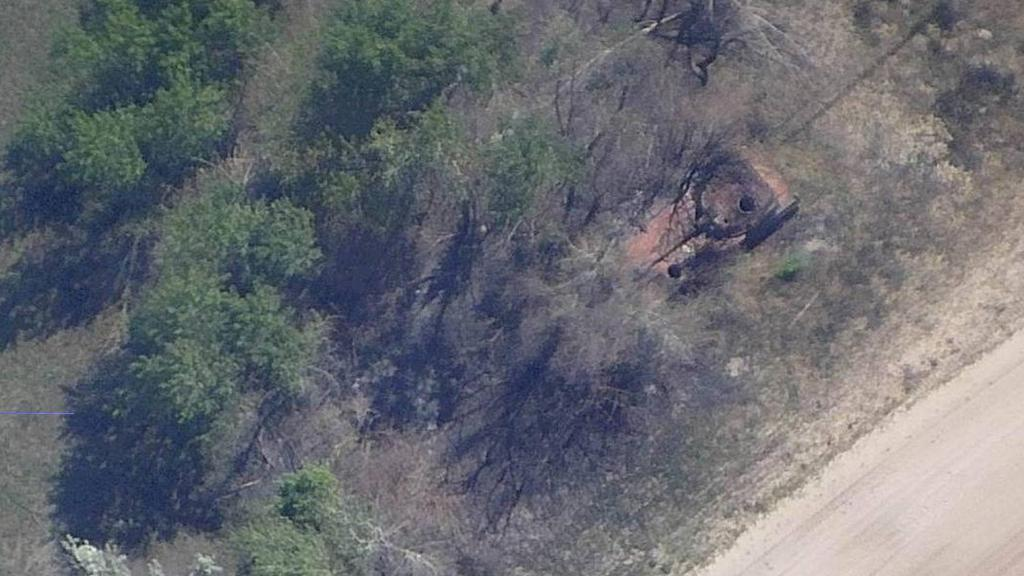ART: (611, 144, 803, 306)
